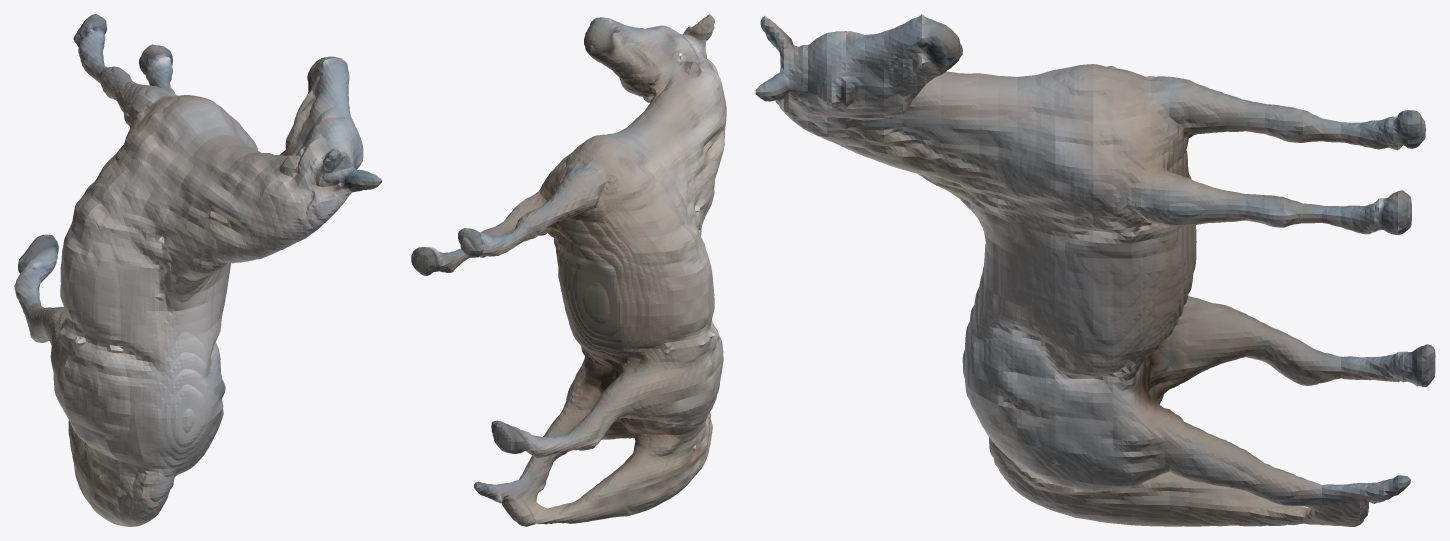
File: modelo.glb
3 renders of one model, left to right at view 1: azimuth 30°, elevation 25°; view 2: azimuth 150°, elevation 25°; view 3: azimuth 270°, elevation 25°, orthographic. The views are drawn at different scales.
Parts seen in each view (by area): view 1: world; view 2: world; view 3: world.
Part boxes in pixels (x1,y1,x2,y2): world: [14, 14, 382, 526]; world: [411, 14, 726, 526]; world: [755, 14, 1435, 526].
Bounding box in the file's own units: 0.4722 × 0.9307 × 0.971.
